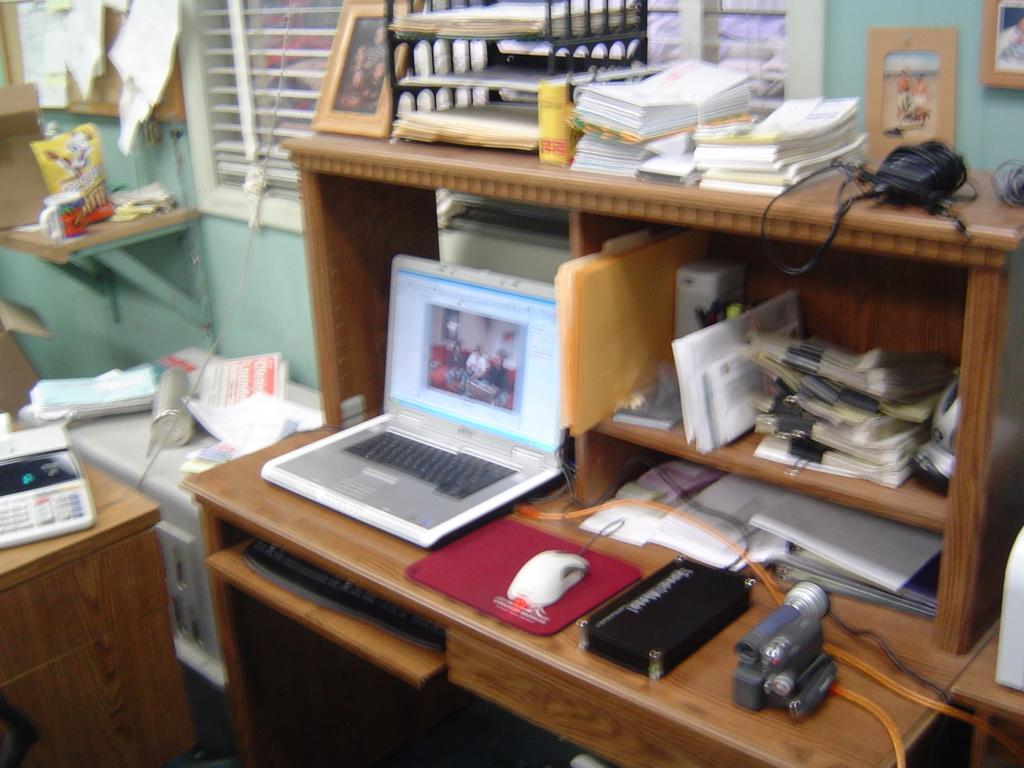Laptop: (265, 244, 596, 566)
